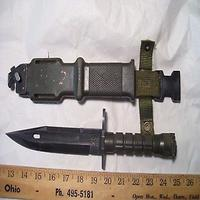knife: (3, 108, 190, 172)
